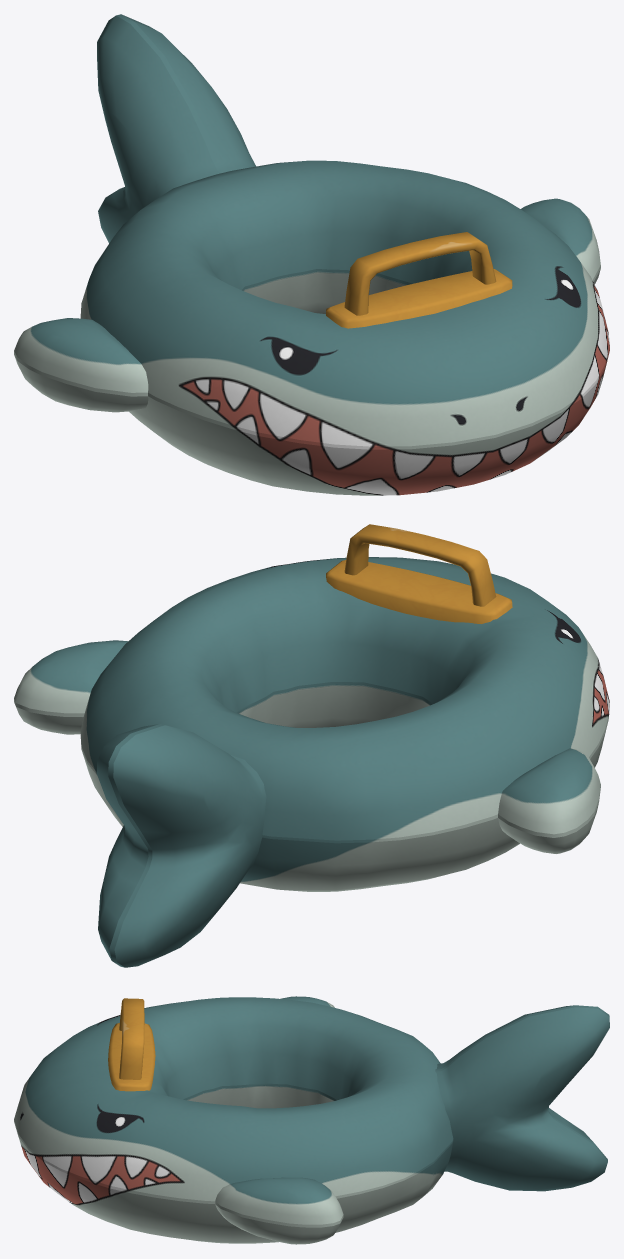
File: sharkfloatie.glb
3 views of the same model, one above another, from view 1: azimuth 30°, elevation 25°; view 2: azimuth 150°, elevation 25°; view 3: azimuth 270°, elevation 25° (orthographic). The views are drawn at different scales.
Parts seen in each view (by area): view 1: Shar ring low; view 2: Shar ring low; view 3: Shar ring low.
Part boxes in pixels (box(x1,y1,x2,y2)): Shar ring low: box(14, 14, 609, 495); Shar ring low: box(14, 524, 609, 967); Shar ring low: box(14, 996, 609, 1244).
Size of the model in its own units: 3.85 by 1.57 by 4.59.
Materials: 1 (1 with a texture image).
